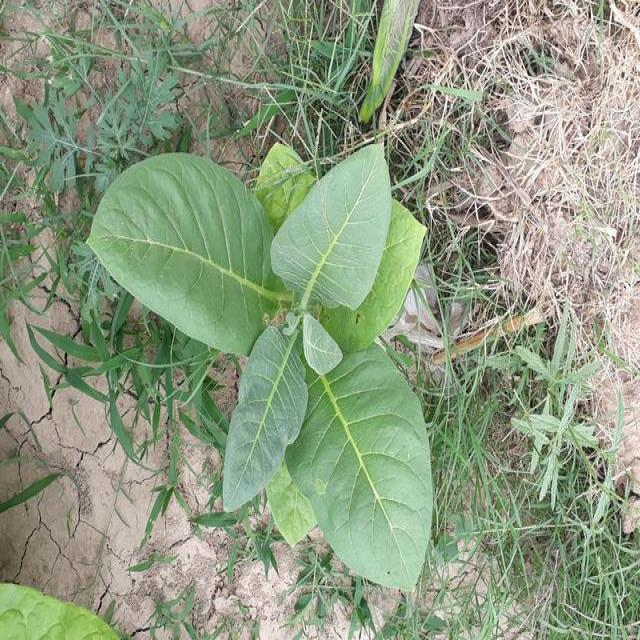crop: (84, 137, 452, 584)
